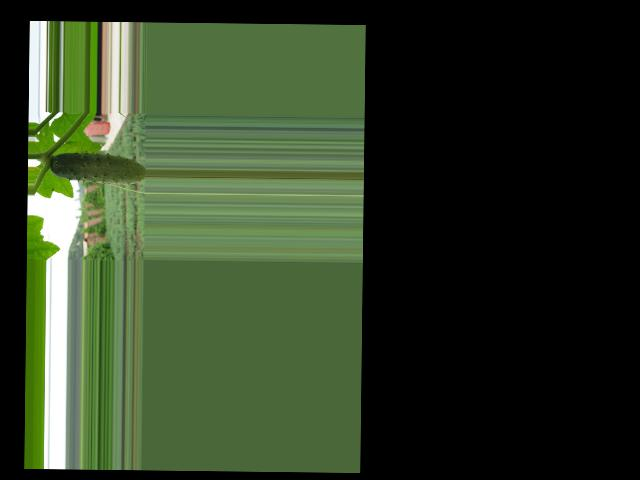cucumber: (50, 152, 146, 184)
